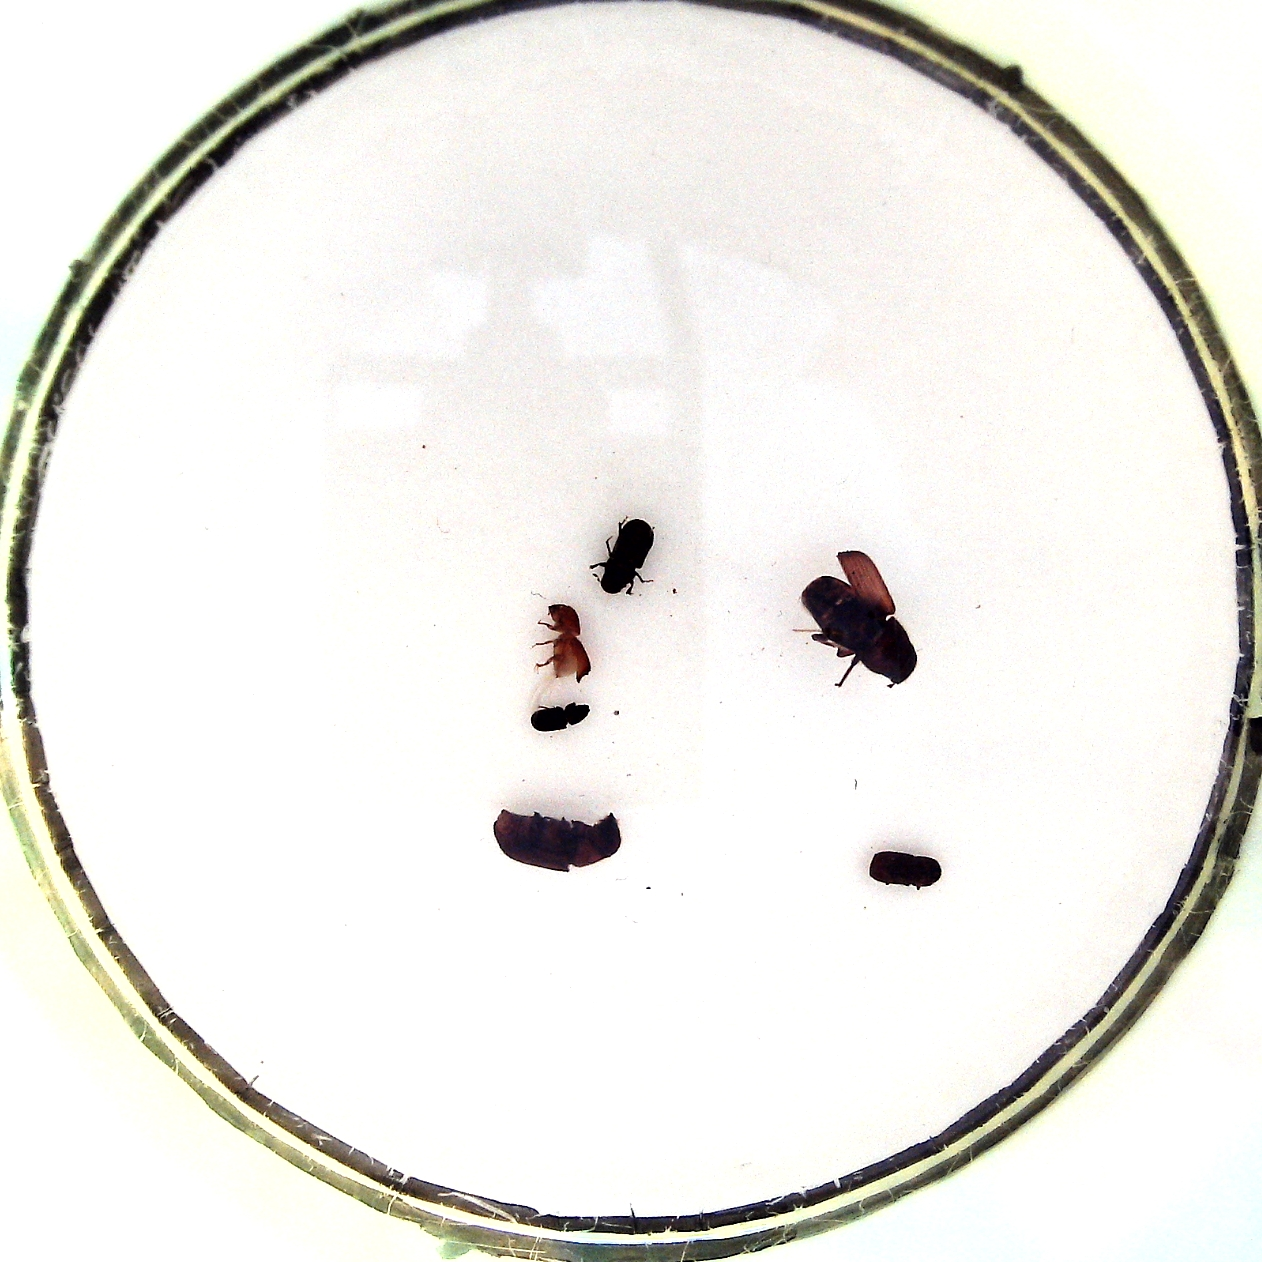Leconte: (787, 548, 923, 691), (492, 794, 626, 881)
Linnaeus: (862, 849, 949, 892)
acuminatus: (528, 602, 592, 686)
armandi: (591, 514, 659, 596)
coleoptera: (526, 695, 592, 738)
